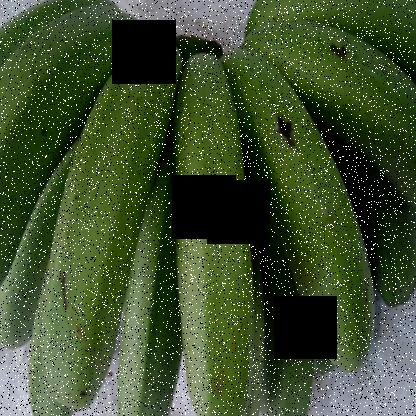freshunripe: (36, 47, 167, 415), (225, 92, 383, 373), (165, 47, 257, 415), (252, 17, 416, 185), (371, 180, 413, 312)
